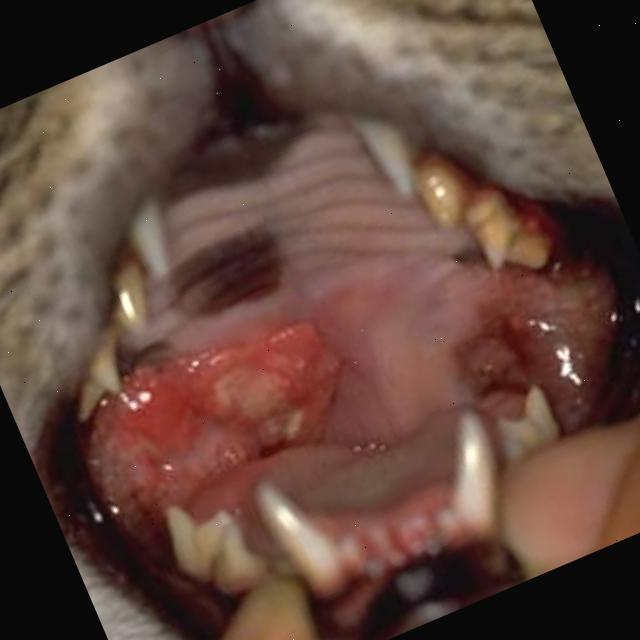cat-ulcer: (108, 309, 360, 500), (478, 273, 604, 401)
